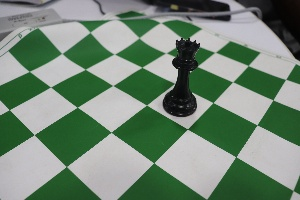black_queen: (160, 25, 203, 122)
